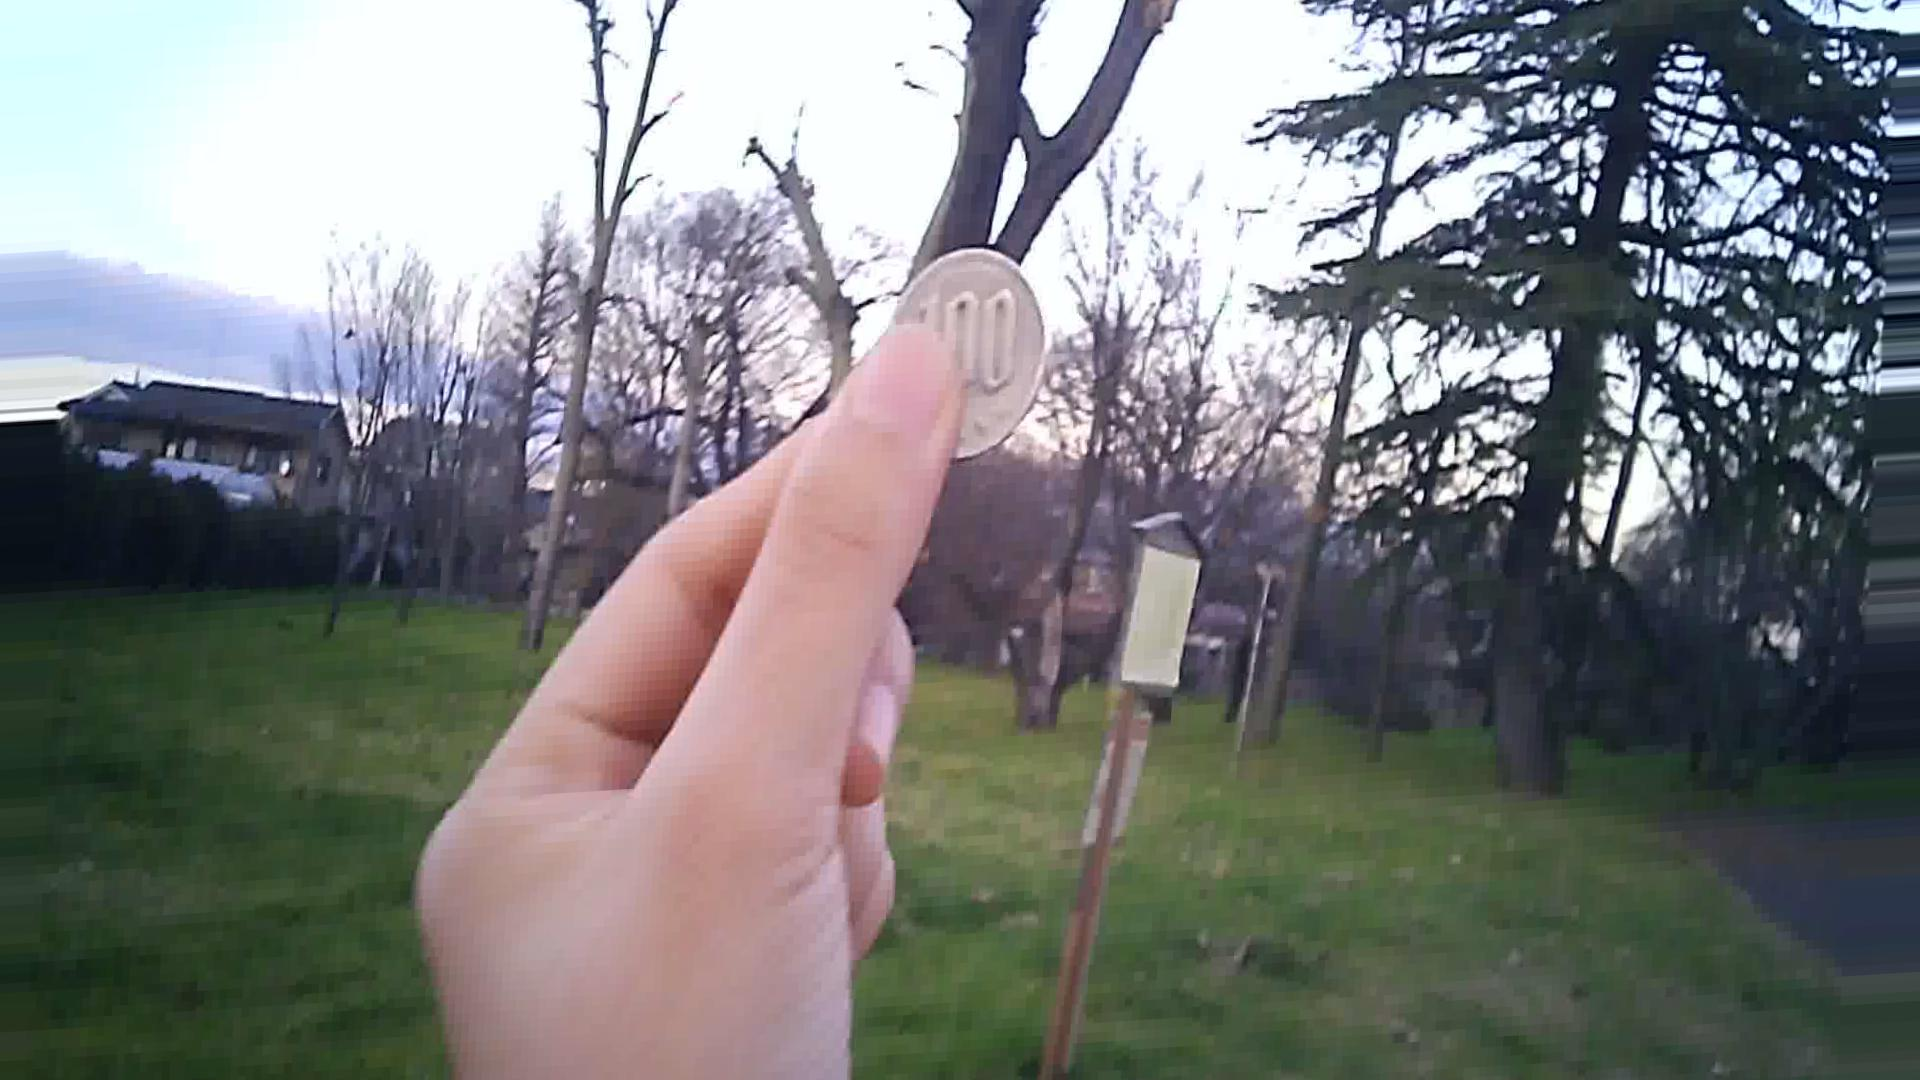100 Yen: (881, 244, 1055, 463)
